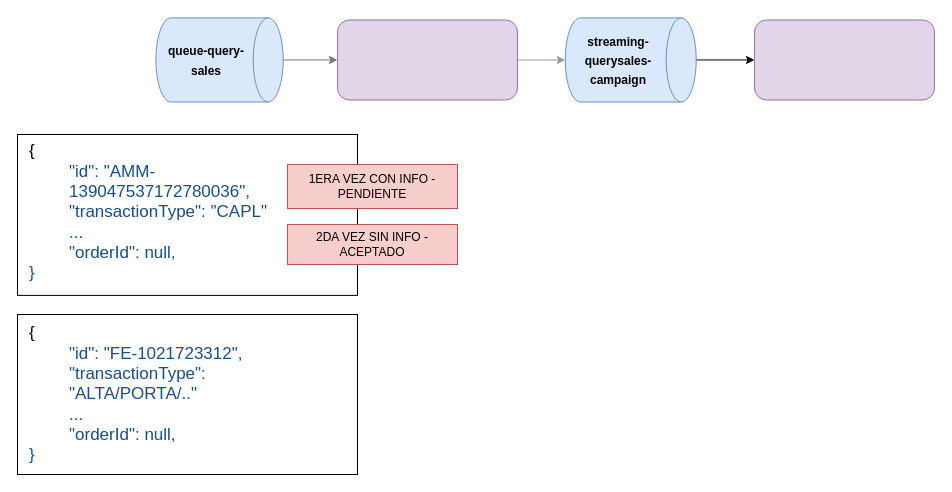
Image size: 952x492. Some labels were removed from this diagram. Each missing label, with the centre of its shape:
"campaign-integration" belongs at point 427,59.
"query-sales-stream" belongs at point 844,59.
